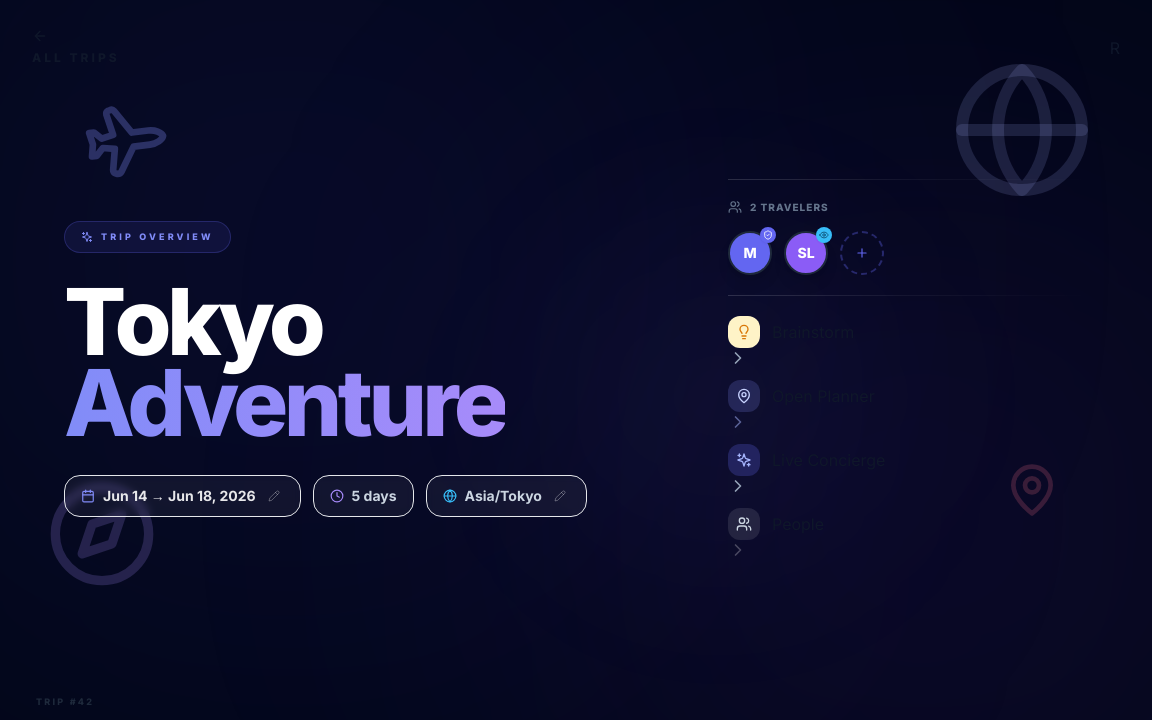
Test case: TripHub — inline edits › saves an edited start date and re-renders the range
Expected: the text "Tokyo" is shown, [64,281,321,362]
Click the button titled "Edit start date" at (274, 496), box [264,486,284,506]
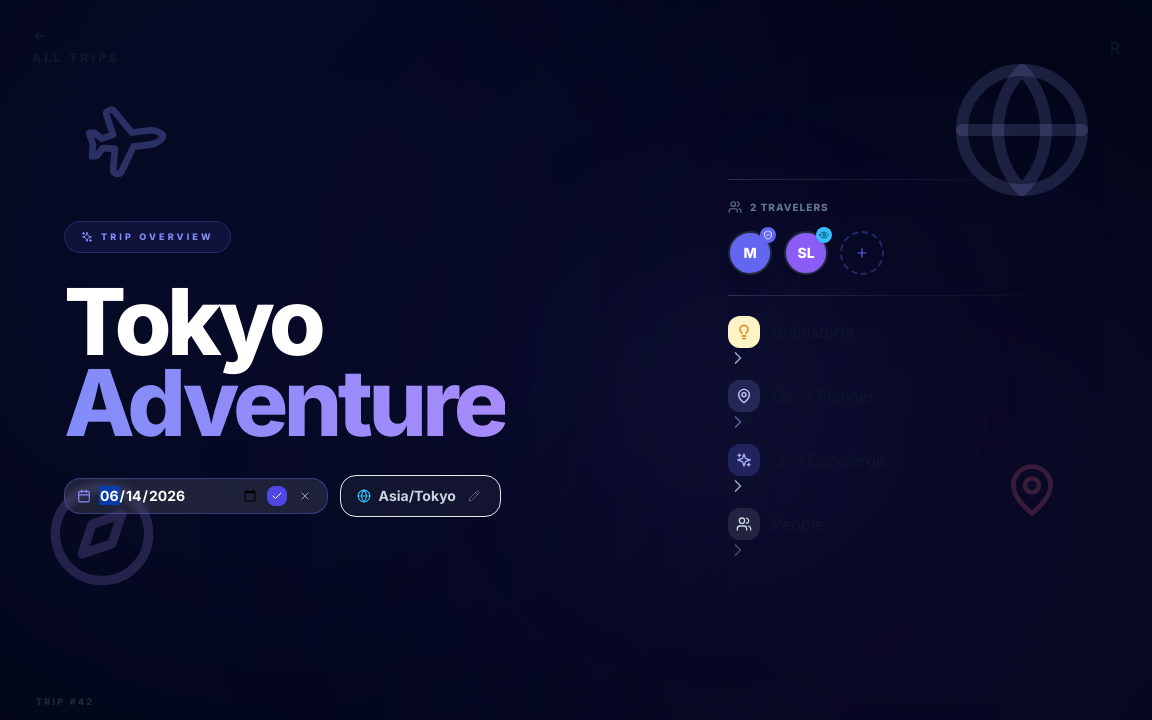
Type "2026-07-01" into the date field at (179, 496), box [99,485,259,507]
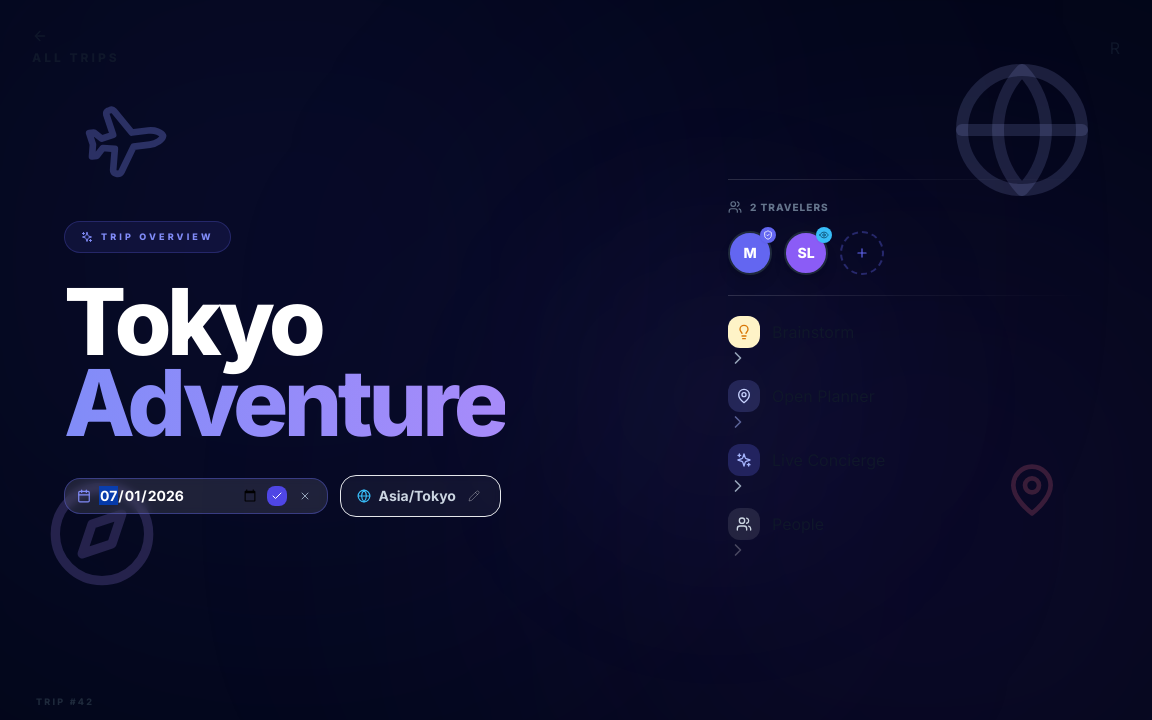
Press Enter in the date field, box [99,485,259,507]
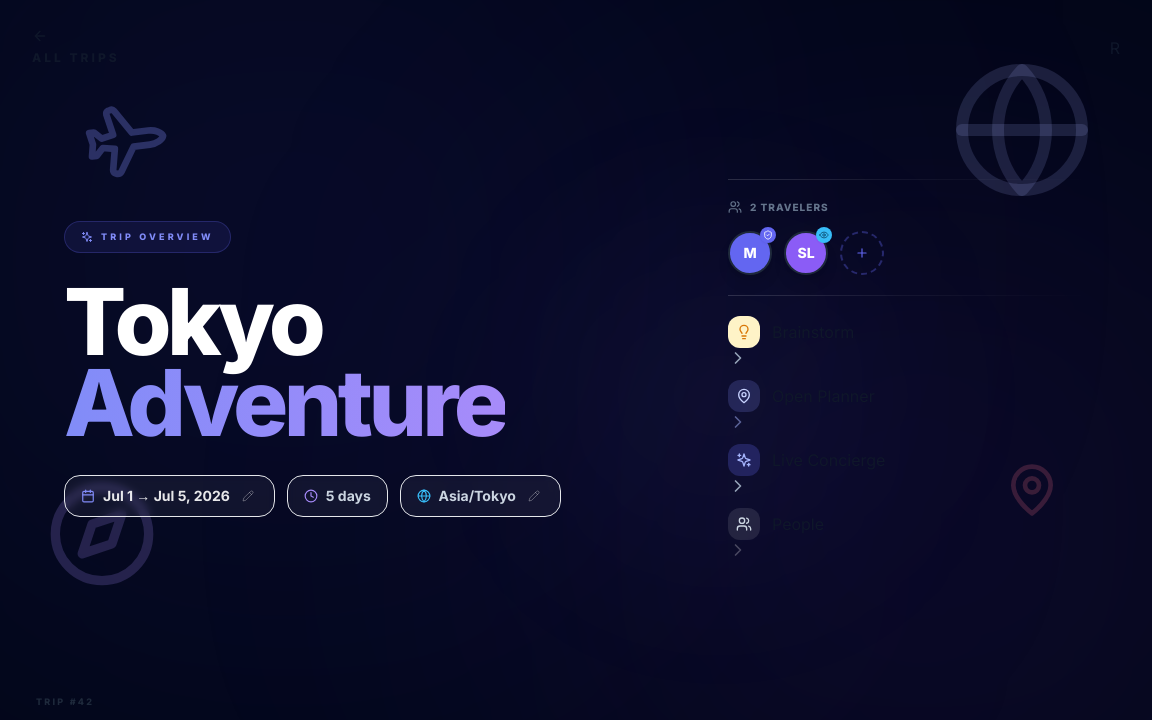
Expected: the text "Jul 1 → Jul 5, 2026" is shown, [103,486,230,506]
